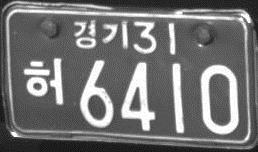0: (198, 61, 238, 135)
1: (168, 61, 191, 134), (165, 20, 181, 55)
3: (130, 20, 157, 55)
4: (120, 60, 156, 131)
6: (78, 58, 114, 129)
경기_O: (73, 20, 130, 52)
허: (23, 57, 65, 105)
